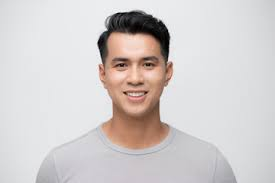asian_male: (81, 15, 175, 131)
